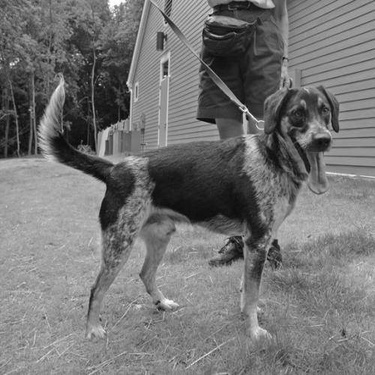dog: (11, 63, 348, 354)
